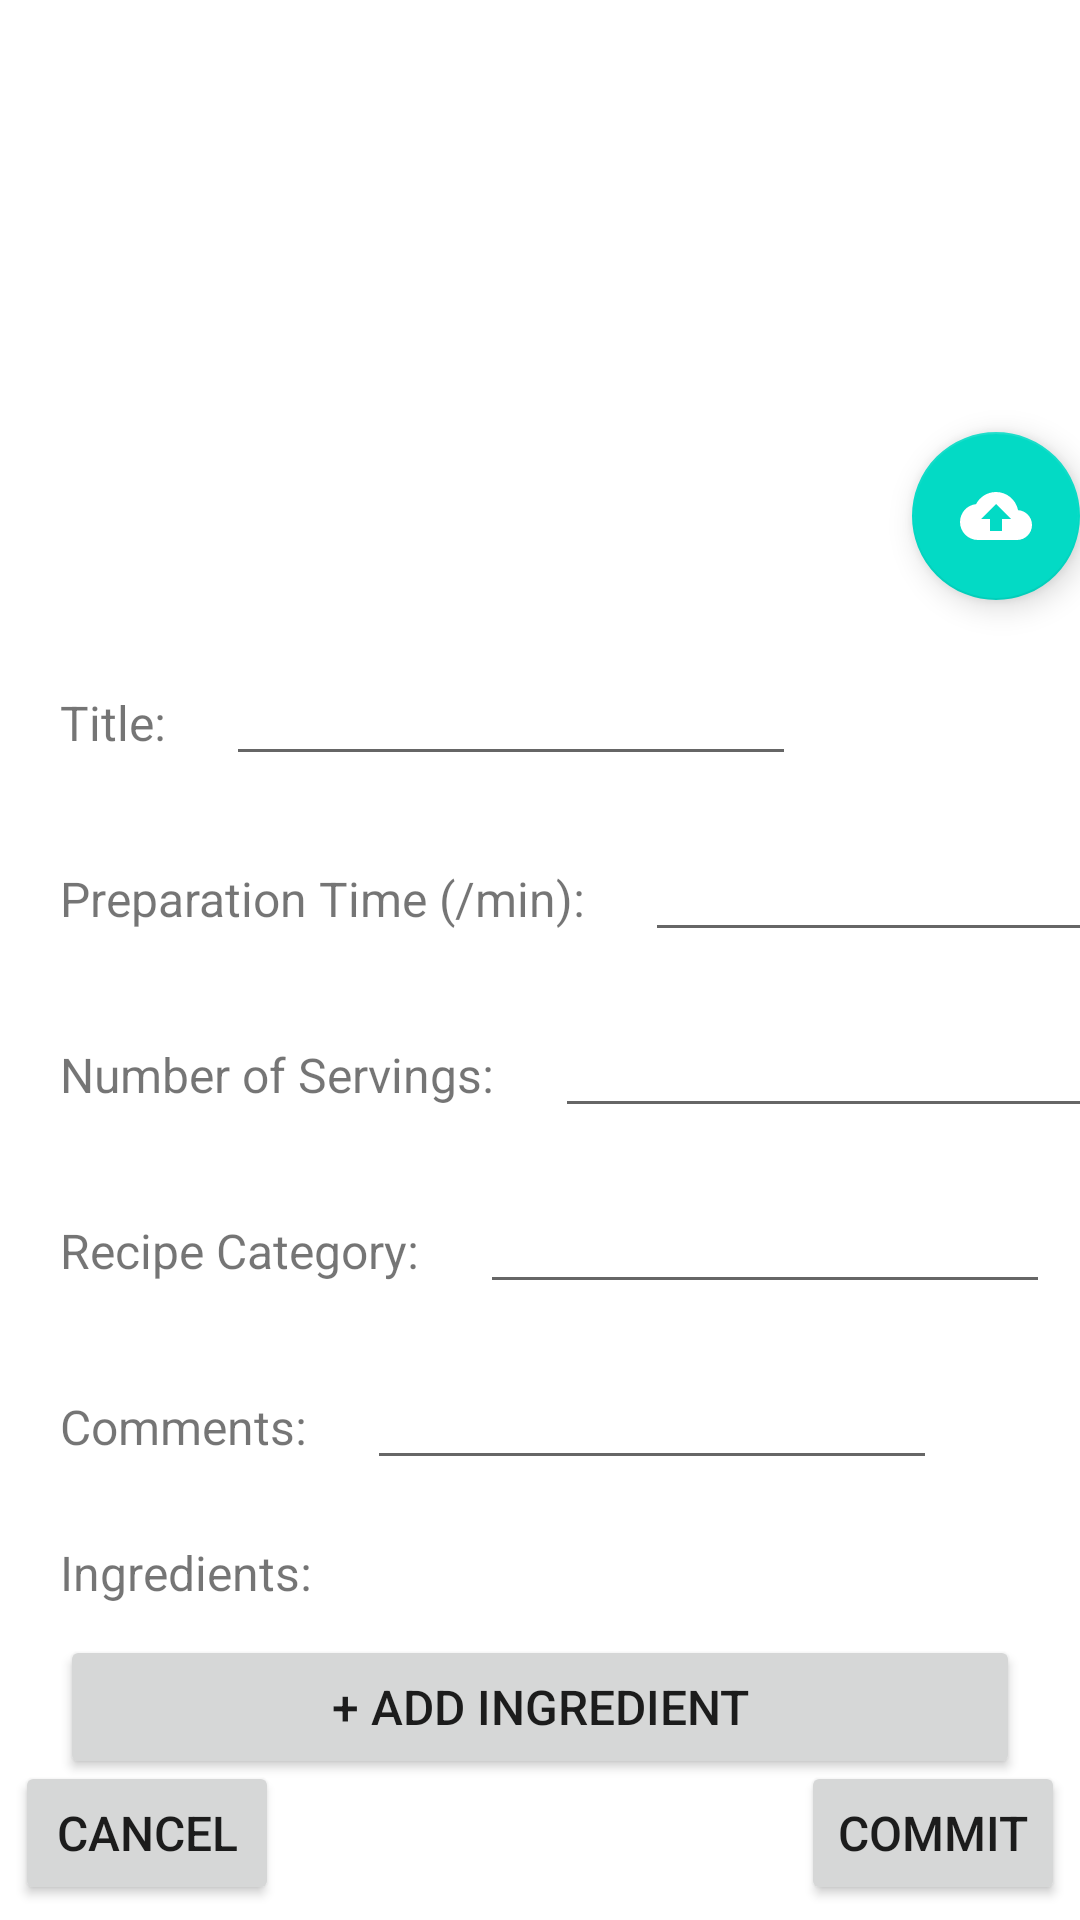

Icon bounding boxes for this 1080*1920 phone screenshot, format box(x1, y1, x2, y2):
cloud upload: box(912, 432, 1080, 600)
